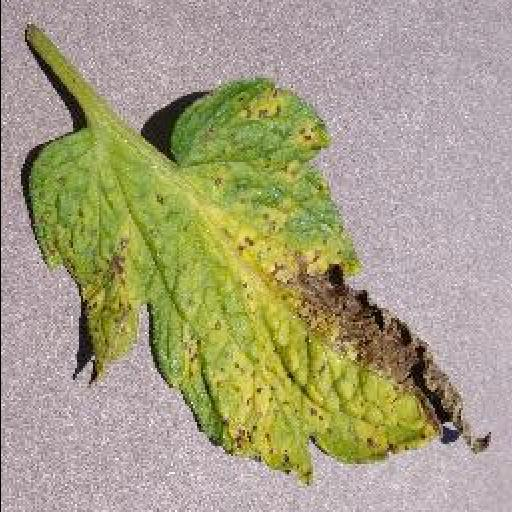disease_tomato: (26, 80, 488, 488)
